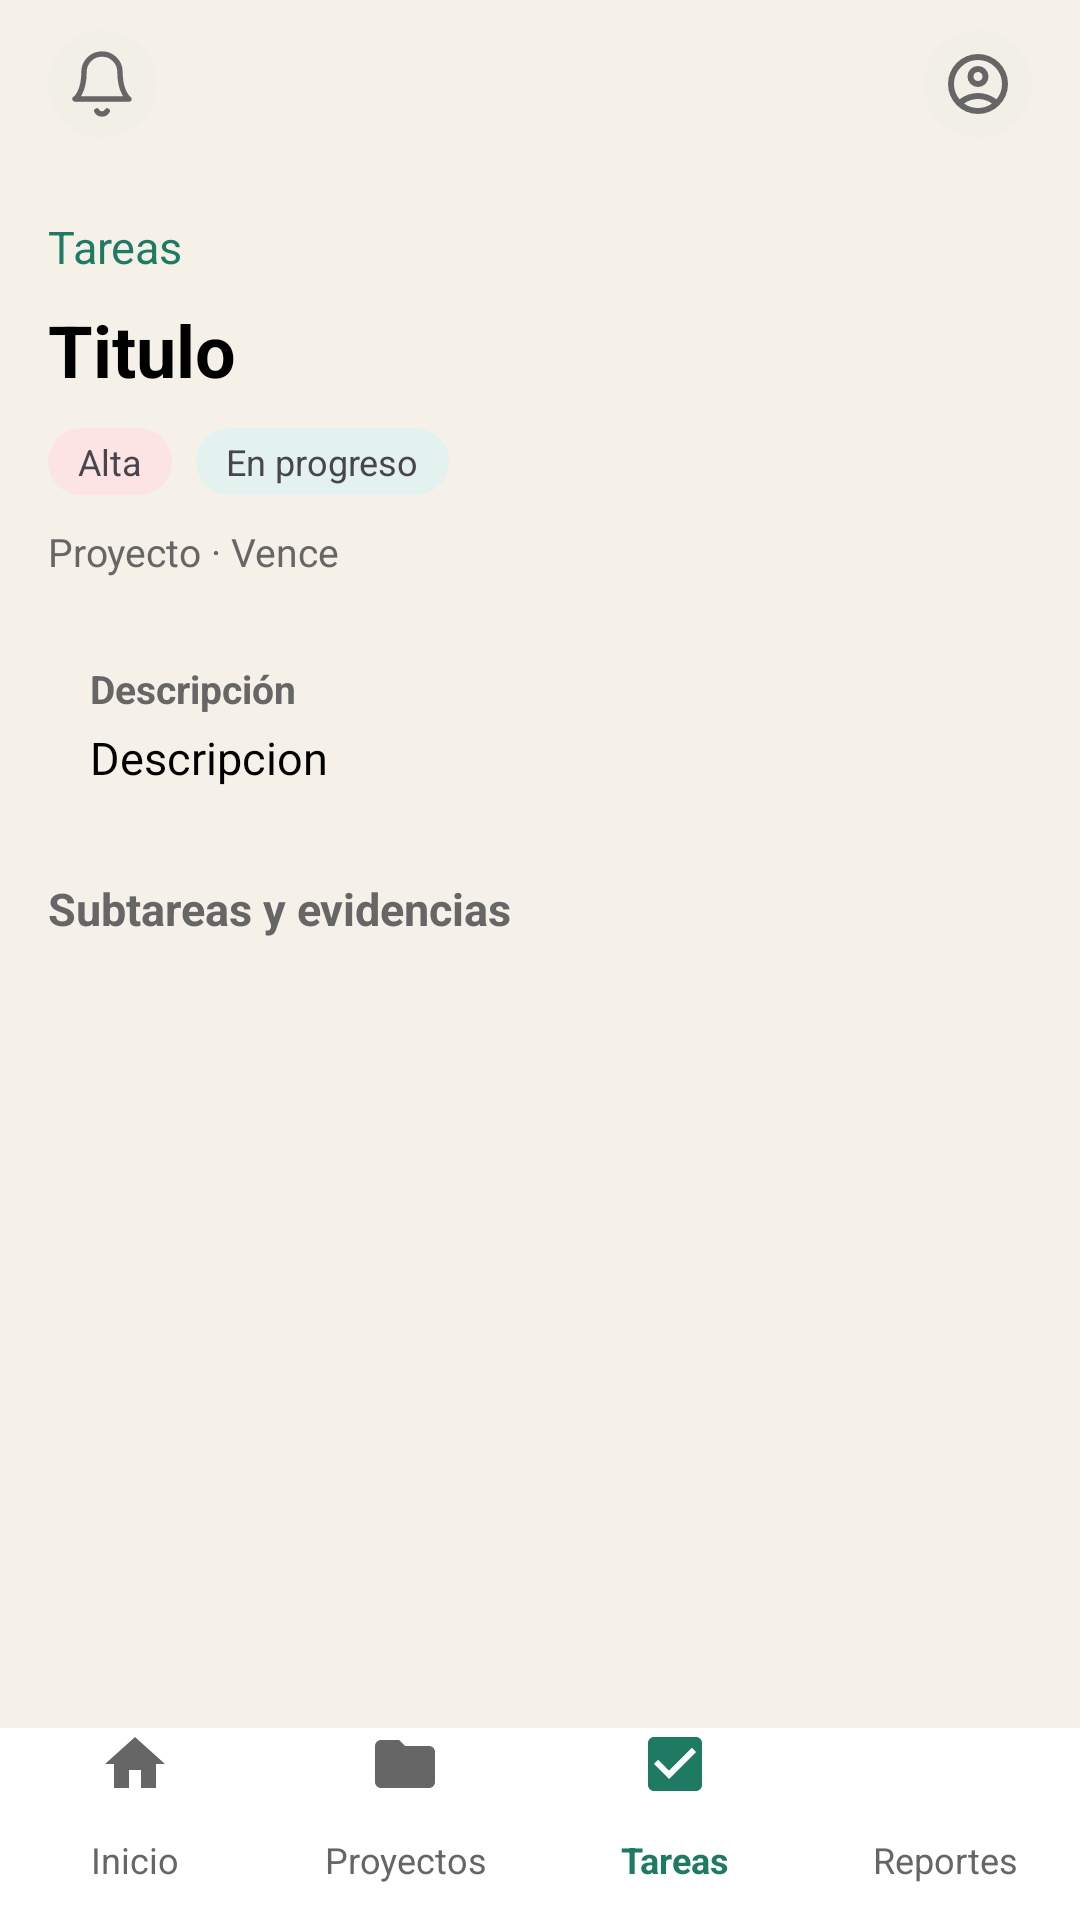

Icon bounding boxes for this 1080x1920 phone screenshot, format box=[x1, y1, x2, y2]:
notificacion: box=[72, 51, 132, 117]
perfil: box=[948, 54, 1008, 114]
